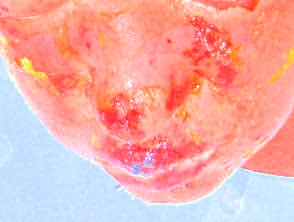SJS-TEN: (67, 0, 257, 213)
